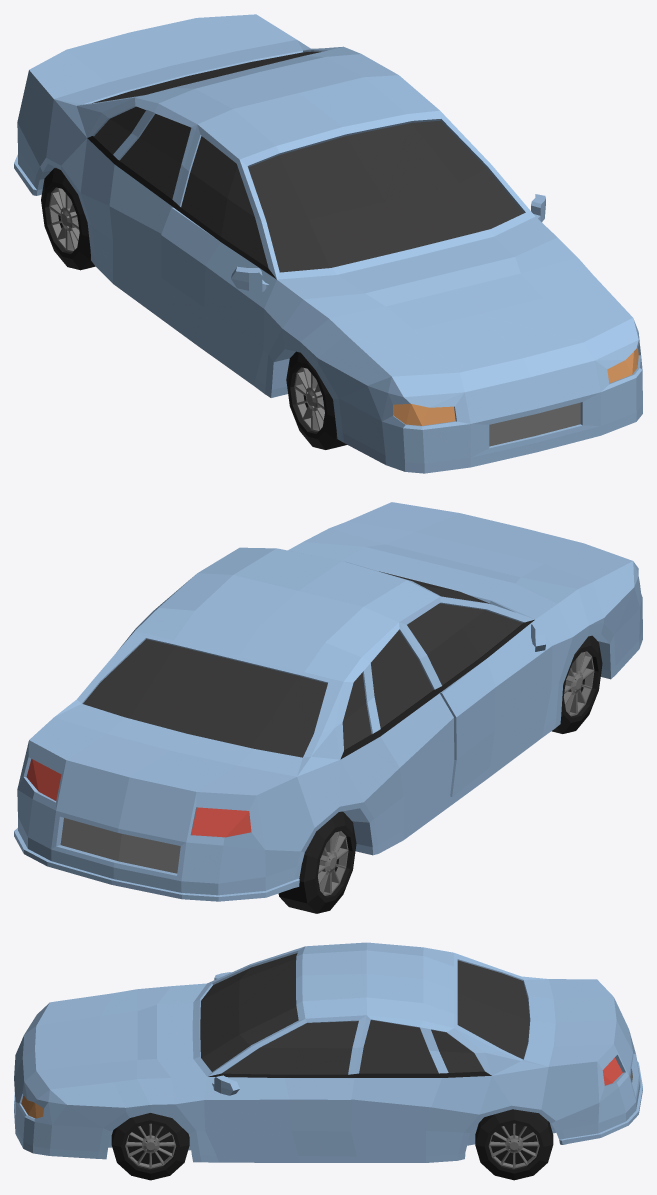
The model's file is blue_car.glb.
3 views of the same model, one above another, from view 1: azimuth 30°, elevation 25°; view 2: azimuth 150°, elevation 25°; view 3: azimuth 270°, elevation 25° (orthographic). The views are drawn at different scales.
Visible parts, largest first — view 1: NormalCar1; view 2: NormalCar1; view 3: NormalCar1.
Part boxes in pixels (x1,y1,x2,y2): NormalCar1: (14, 14, 642, 473); NormalCar1: (14, 502, 642, 913); NormalCar1: (14, 942, 642, 1180).
Size of the model in its own units: 1.81 by 1.18 by 4.22.
Materials: 1 (1 with a texture image).
